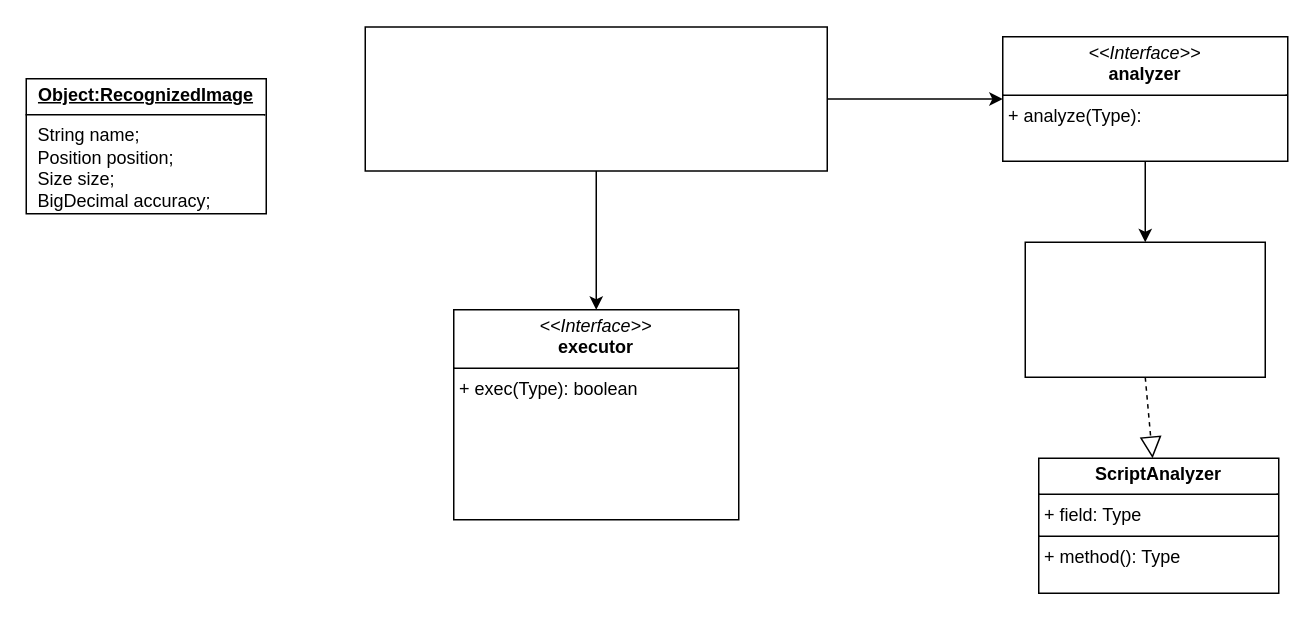
Some shapes in this 1314 by 620 pixel diagram are drawn without their labels. The shapes that lost their labels are listed below. From the top down, each one's box as (x1, y1, x2, y2) in pixels, then its label:
(364, 26, 827, 171): <<Interface>> recognizer + recognize(TemplateImage): List<RecognizedImage>
(1024, 241, 1265, 377): AbstractAnalyzer + field: Type + method(): Type
